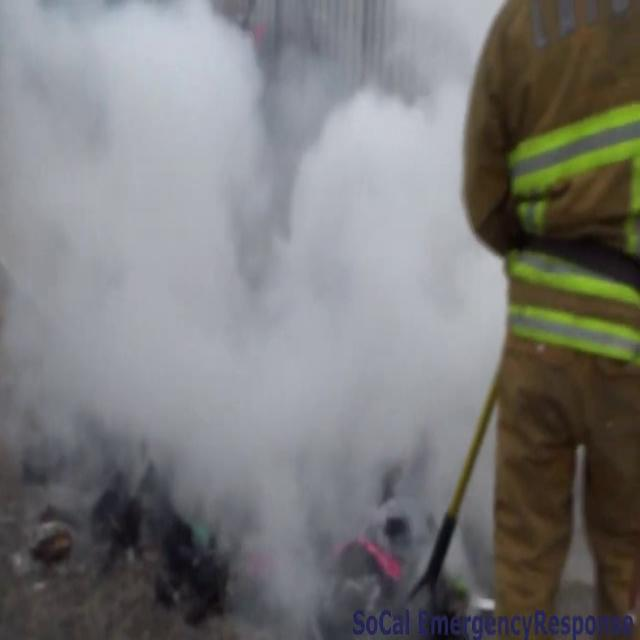Smoke: (0, 0, 542, 616)
